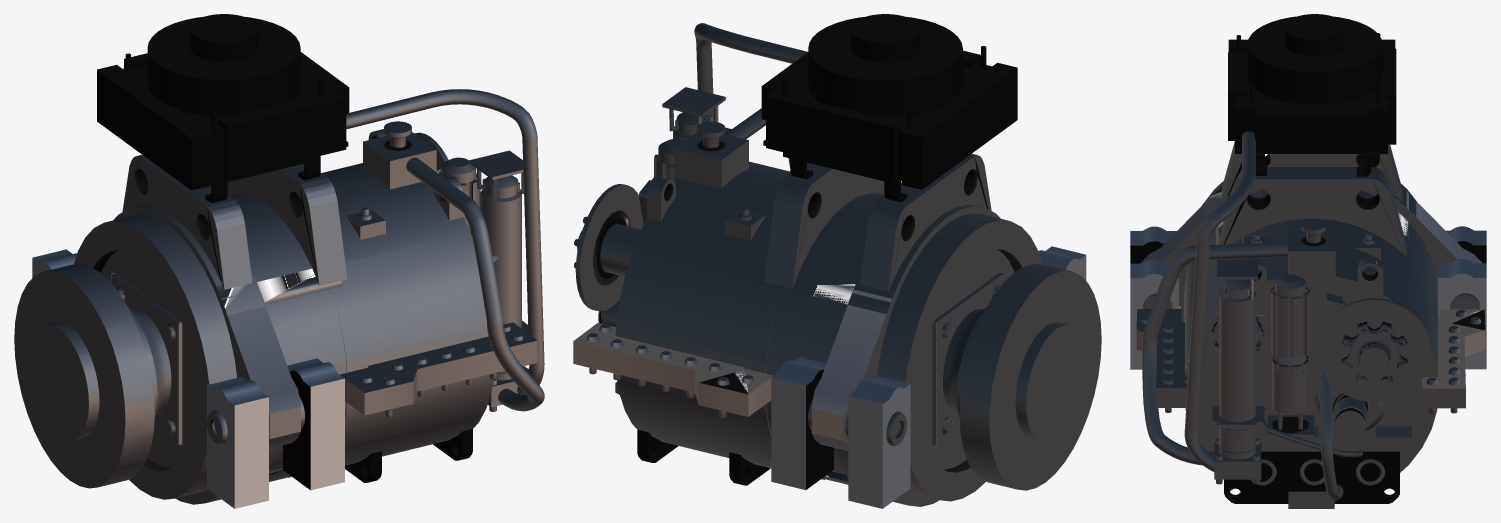
File: fadongji.glb
The picture shows the model from 3 angles, left to right: view 1: azimuth 30°, elevation 25°; view 2: azimuth 150°, elevation 25°; view 3: azimuth 270°, elevation 25°; orthographic projection. The views are drawn at different scales.
Visible parts, largest first — view 1: 发动机; view 2: 发动机; view 3: 发动机.
Boxes of the visible parts, left/top/right/bottom form: 发动机: left=14, top=14, right=544, bottom=508; 发动机: left=573, top=14, right=1101, bottom=508; 发动机: left=1130, top=14, right=1486, bottom=508.
Size of the model in its own units: 10.3 by 10.31 by 8.38.
Materials: 44 (42 with a texture image).
